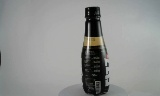appyfizz: (74, 6, 103, 95)
